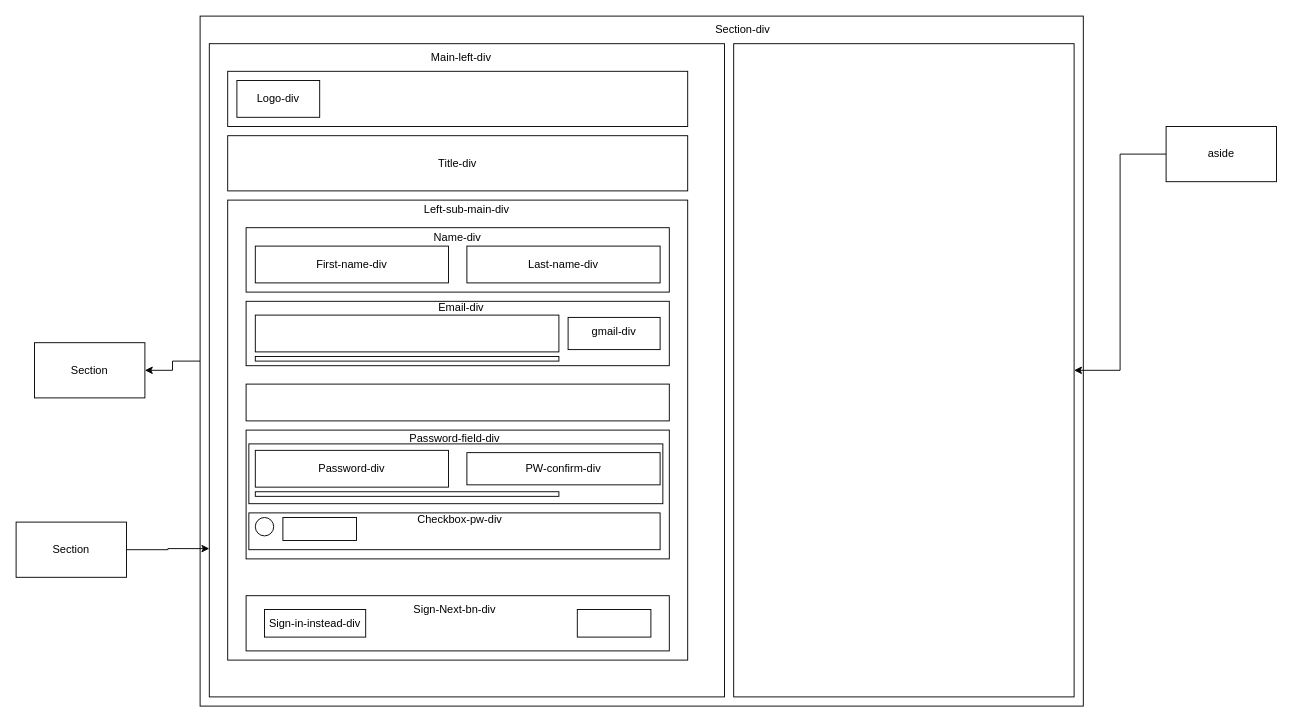
Some shapes in this 1293 by 722 pixel diagram are drawn without their labels. Each missing label, with the centre of its shape:
"cb" goes at point 264,526.
"Link-div" goes at point 457,402.
"Main-right-div" goes at point 903,370.
"Next-bn-div" goes at point 613,623.
"Show-pw-div" goes at point 319,528.
"Username-div" goes at point 406,333.
